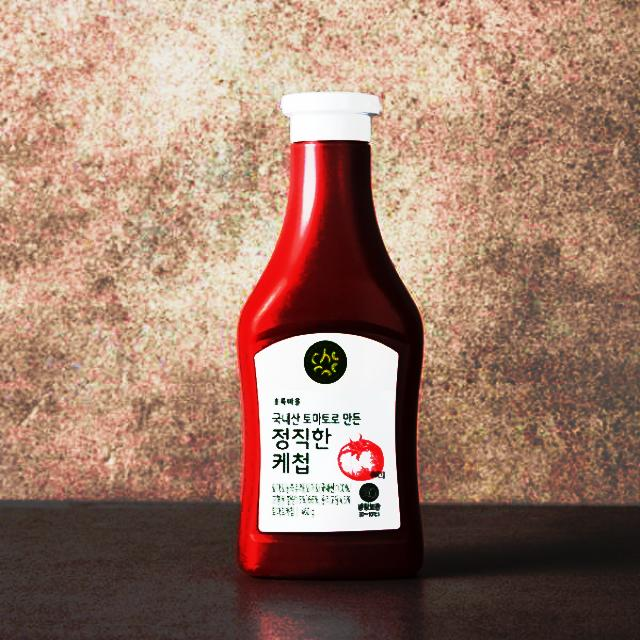ketchup: (232, 91, 428, 582)
